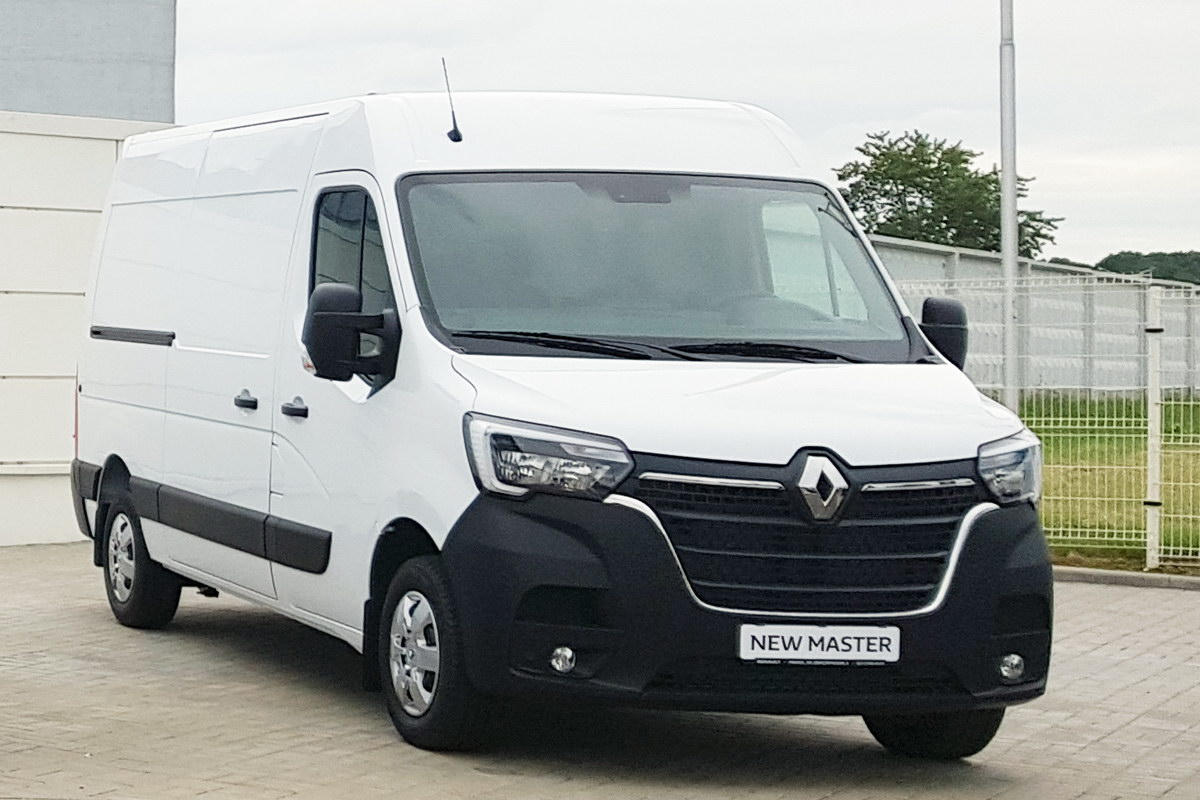van: (69, 86, 1058, 767)
